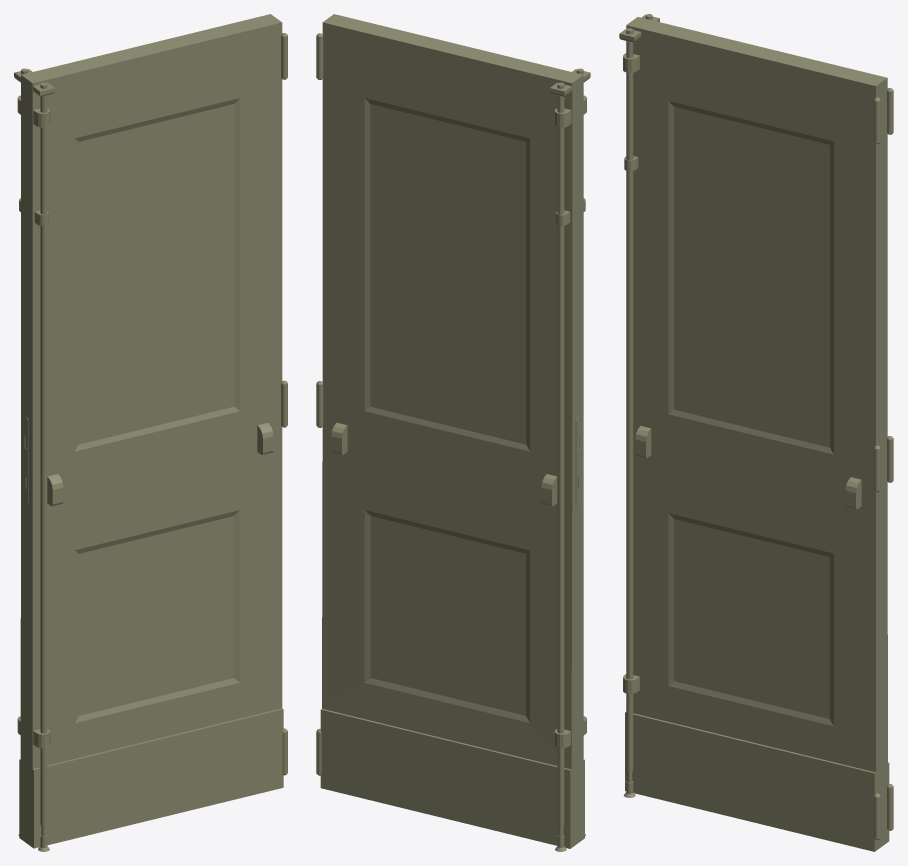
The model's file is Puerta Principal 1.fbx.
The picture shows the model from 3 angles, left to right: view 1: azimuth 30°, elevation 25°; view 2: azimuth 150°, elevation 25°; view 3: azimuth 330°, elevation 25°; orthographic projection.
Visible parts, largest first — view 1: Puerta_Principal_1; view 2: Puerta_Principal_1; view 3: Puerta_Principal_1.
Part boxes in pixels (left/top/right/bottom): Puerta_Principal_1: left=14, top=14, right=287, bottom=851; Puerta_Principal_1: left=316, top=14, right=590, bottom=851; Puerta_Principal_1: left=619, top=14, right=893, bottom=851.
Bounding box in the file's own units: 0.766 × 2.2 × 0.1349.
